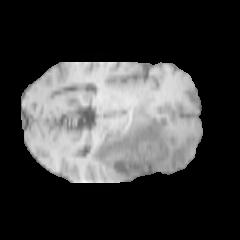glioma: (90, 111, 186, 176)
